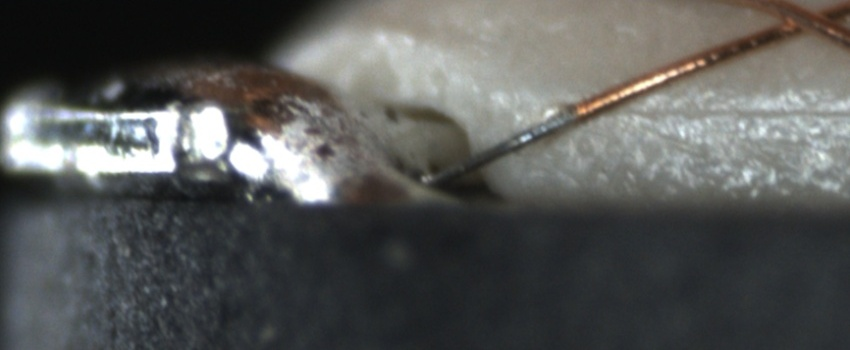CL: (760, 1, 844, 43)
DL: (607, 80, 850, 144)
TS: (425, 105, 577, 187)
TTCW: (414, 87, 636, 185)
